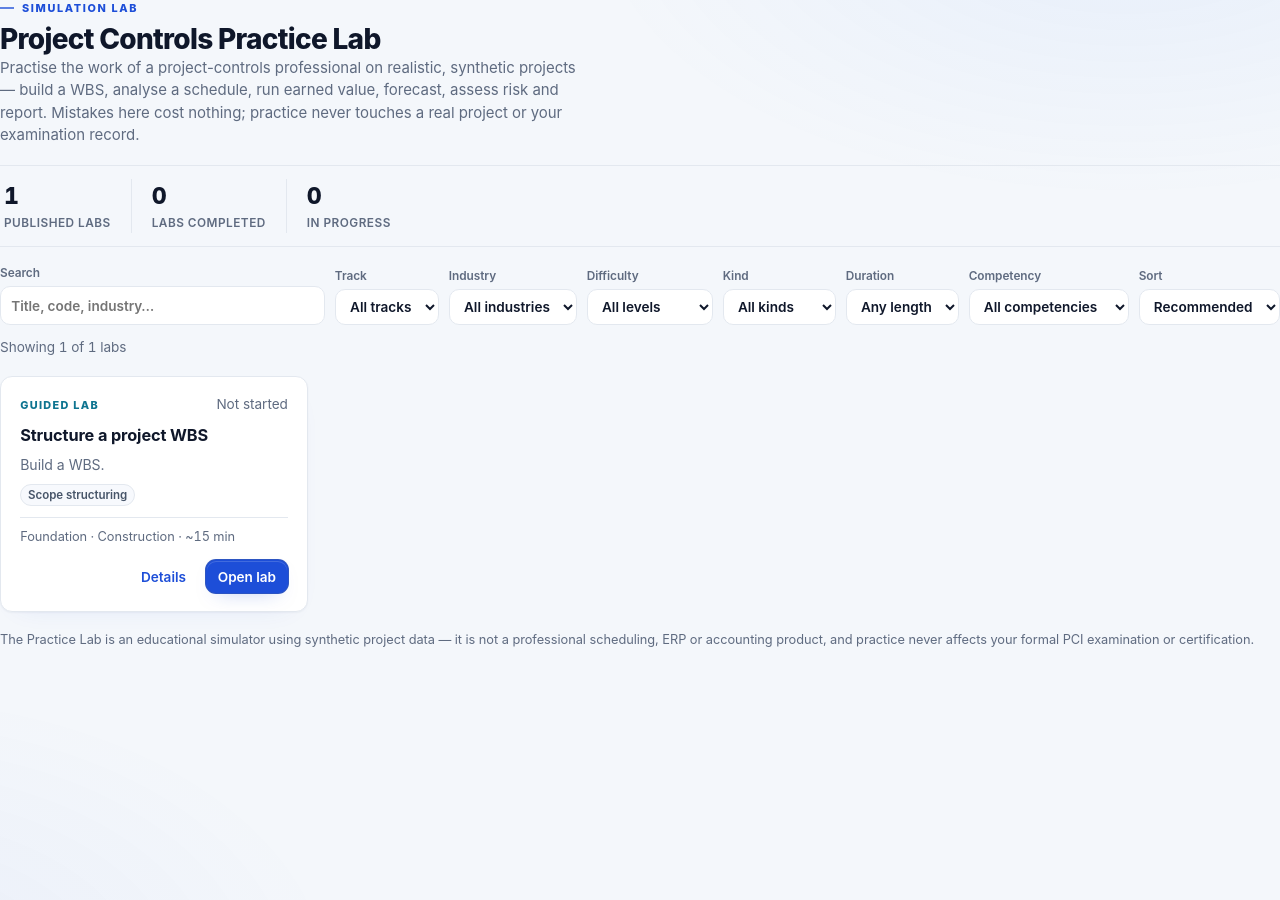
Scenario: Lab (Simulation Lab landing) › opens the scenario details panel with both launch modes
Click the button with aria-label "Details — Structure a project WBS": {"x": 163, "y": 577} left=129, top=560, right=198, bottom=594
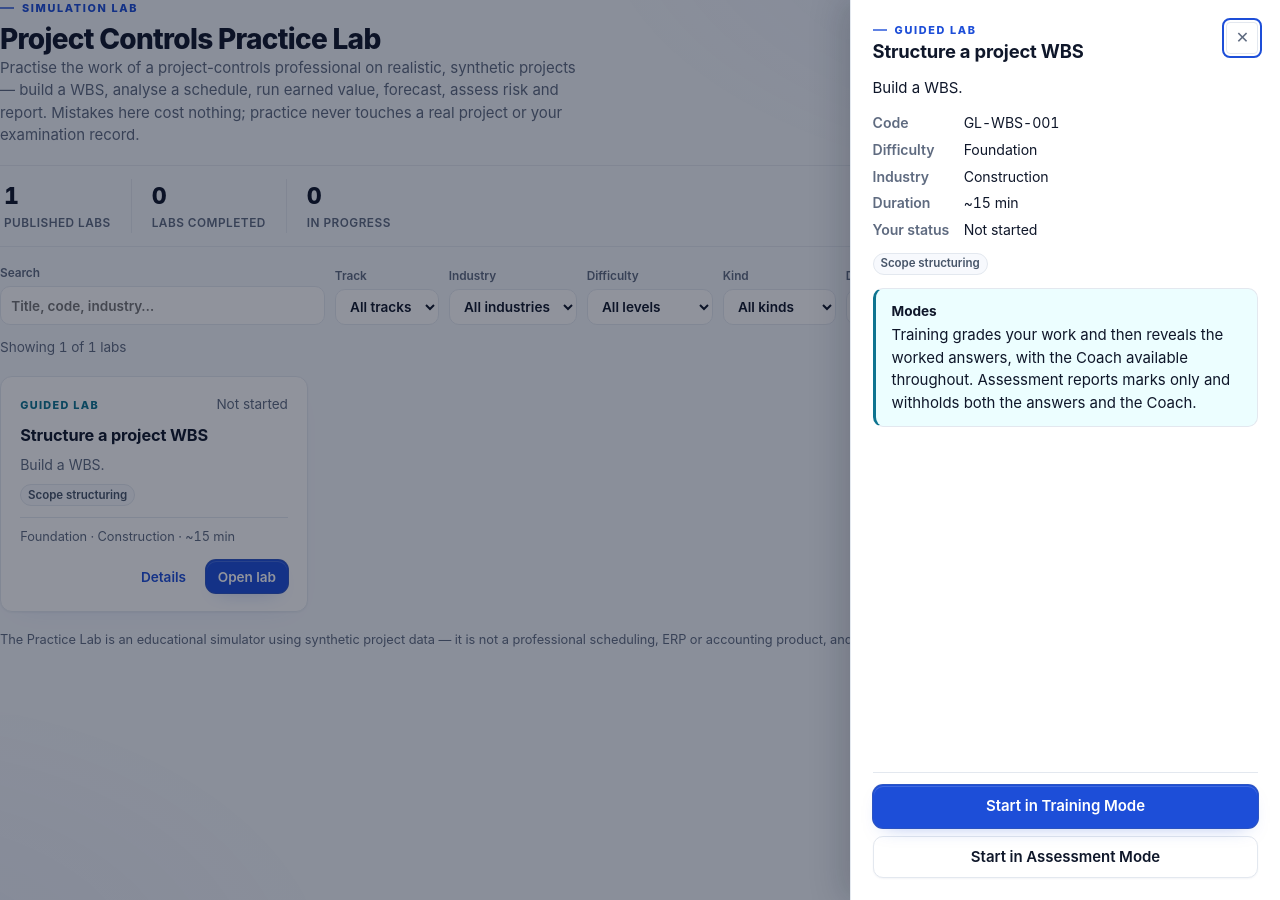
Check: the dialog "Structure a project WBS" is shown, box left=850, top=0, right=1279, bottom=899
Click the button named "Close details": {"x": 1242, "y": 38} left=1226, top=22, right=1258, bottom=54
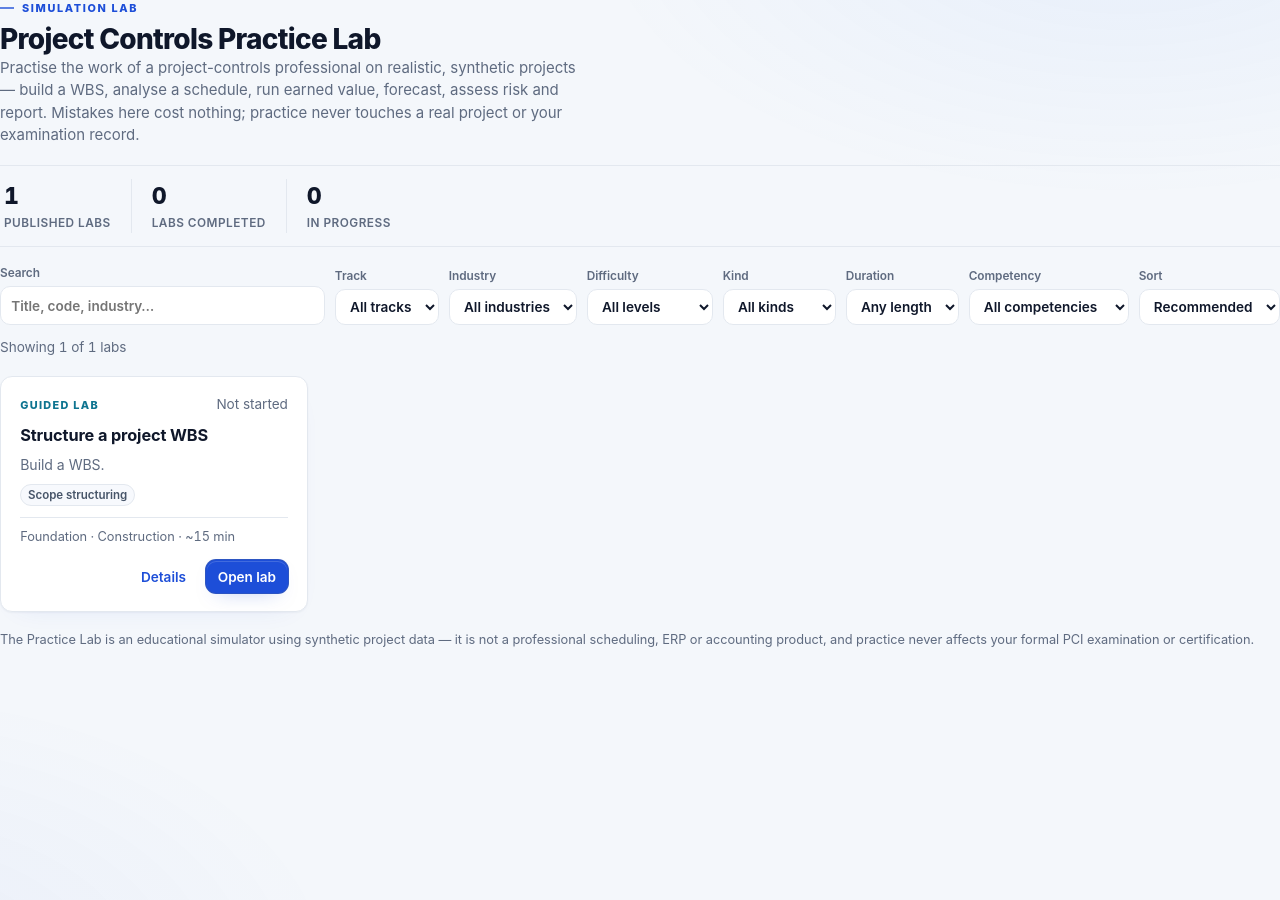
Check: the dialog is gone
